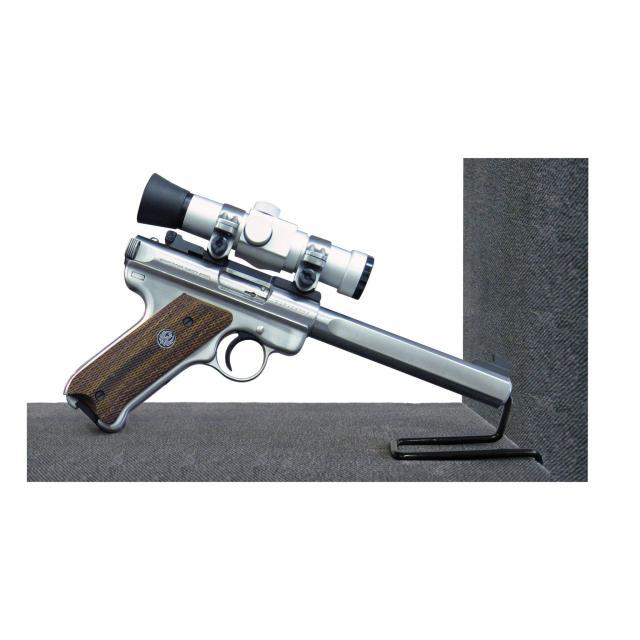pistol: (60, 173, 517, 437)
